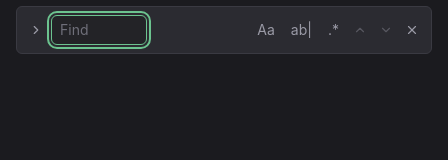
Test: FindBar (F-3.10) › finds as the author types, steps with Enter and Shift+Enter, and focuses the field
The image size is (448, 160).
Type "cat" into the field labelled "Find" at (99, 30), box [51,15,147,45]
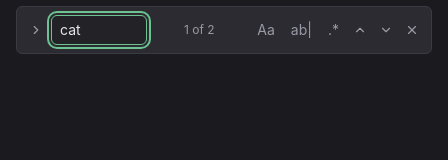
Now the message with test id "find-status" reads "1 of 2", box [184,22,215,37]
Press Enter
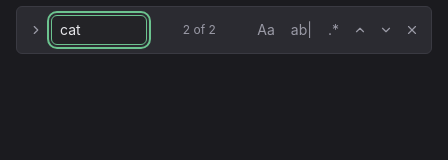
Now the message with test id "find-status" reads "2 of 2", box [183,22,216,37]
Type keys "{Shift>}{Enter}{/Shift}"
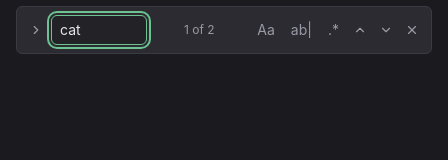
Now the message with test id "find-status" reads "1 of 2", box [184,22,215,37]
Replace the text in the field named "Find" with "zebra" at (99, 30), box [51,15,147,45]
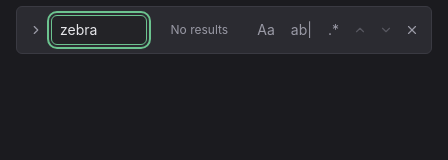
Now the message with test id "find-status" reads "No results", box [170,22,228,37]
